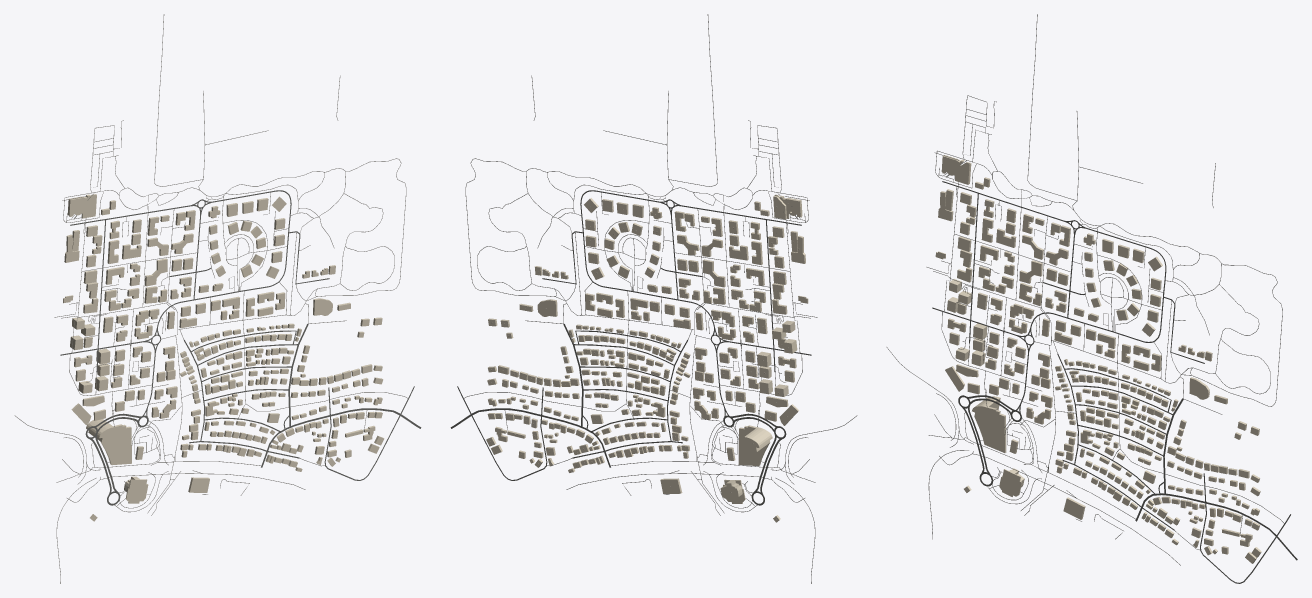
Rendered from historic-palestine-07_27_3489_3219.glb.
3 renders of one model, left to right at view 1: azimuth 30°, elevation 25°; view 2: azimuth 150°, elevation 25°; view 3: azimuth 330°, elevation 25°, orthographic.
Visible parts, largest first — view 1: Building_.232; view 2: Building_.232; view 3: Building_.232.
Part boxes in pixels (<box>): Building_.232: <box>98,424,131,465</box>; Building_.232: <box>738,425,771,466</box>; Building_.232: <box>973,405,1006,452</box>.
Size of the model in its own units: 1233 by 1577 by 71.2.
